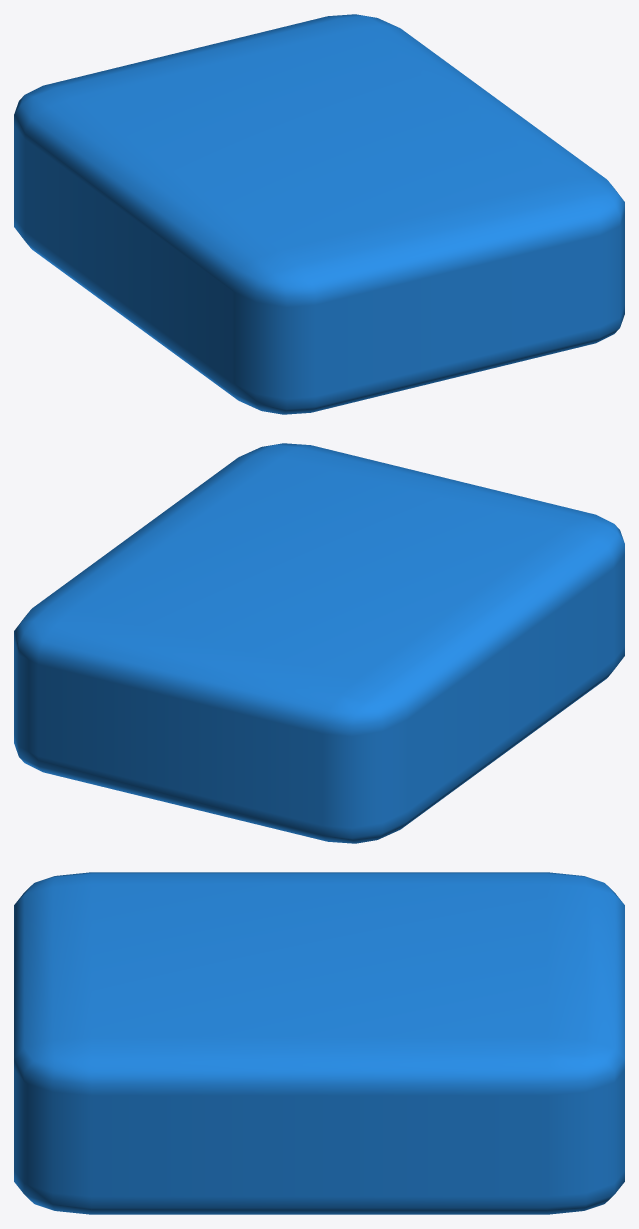
The picture shows the model from 3 angles, top to bottom: view 1: azimuth 30°, elevation 25°; view 2: azimuth 150°, elevation 25°; view 3: azimuth 270°, elevation 25°; orthographic projection. The views are drawn at different scales.
Parts seen in each view (by area): view 1: Cube; view 2: Cube; view 3: Cube.
Boxes of the visible parts, bbox=[...] form: Cube: bbox=[14, 14, 624, 414]; Cube: bbox=[14, 443, 624, 843]; Cube: bbox=[14, 872, 624, 1214].
Bounding box in the file's own units: 200 × 75.13 × 252.
